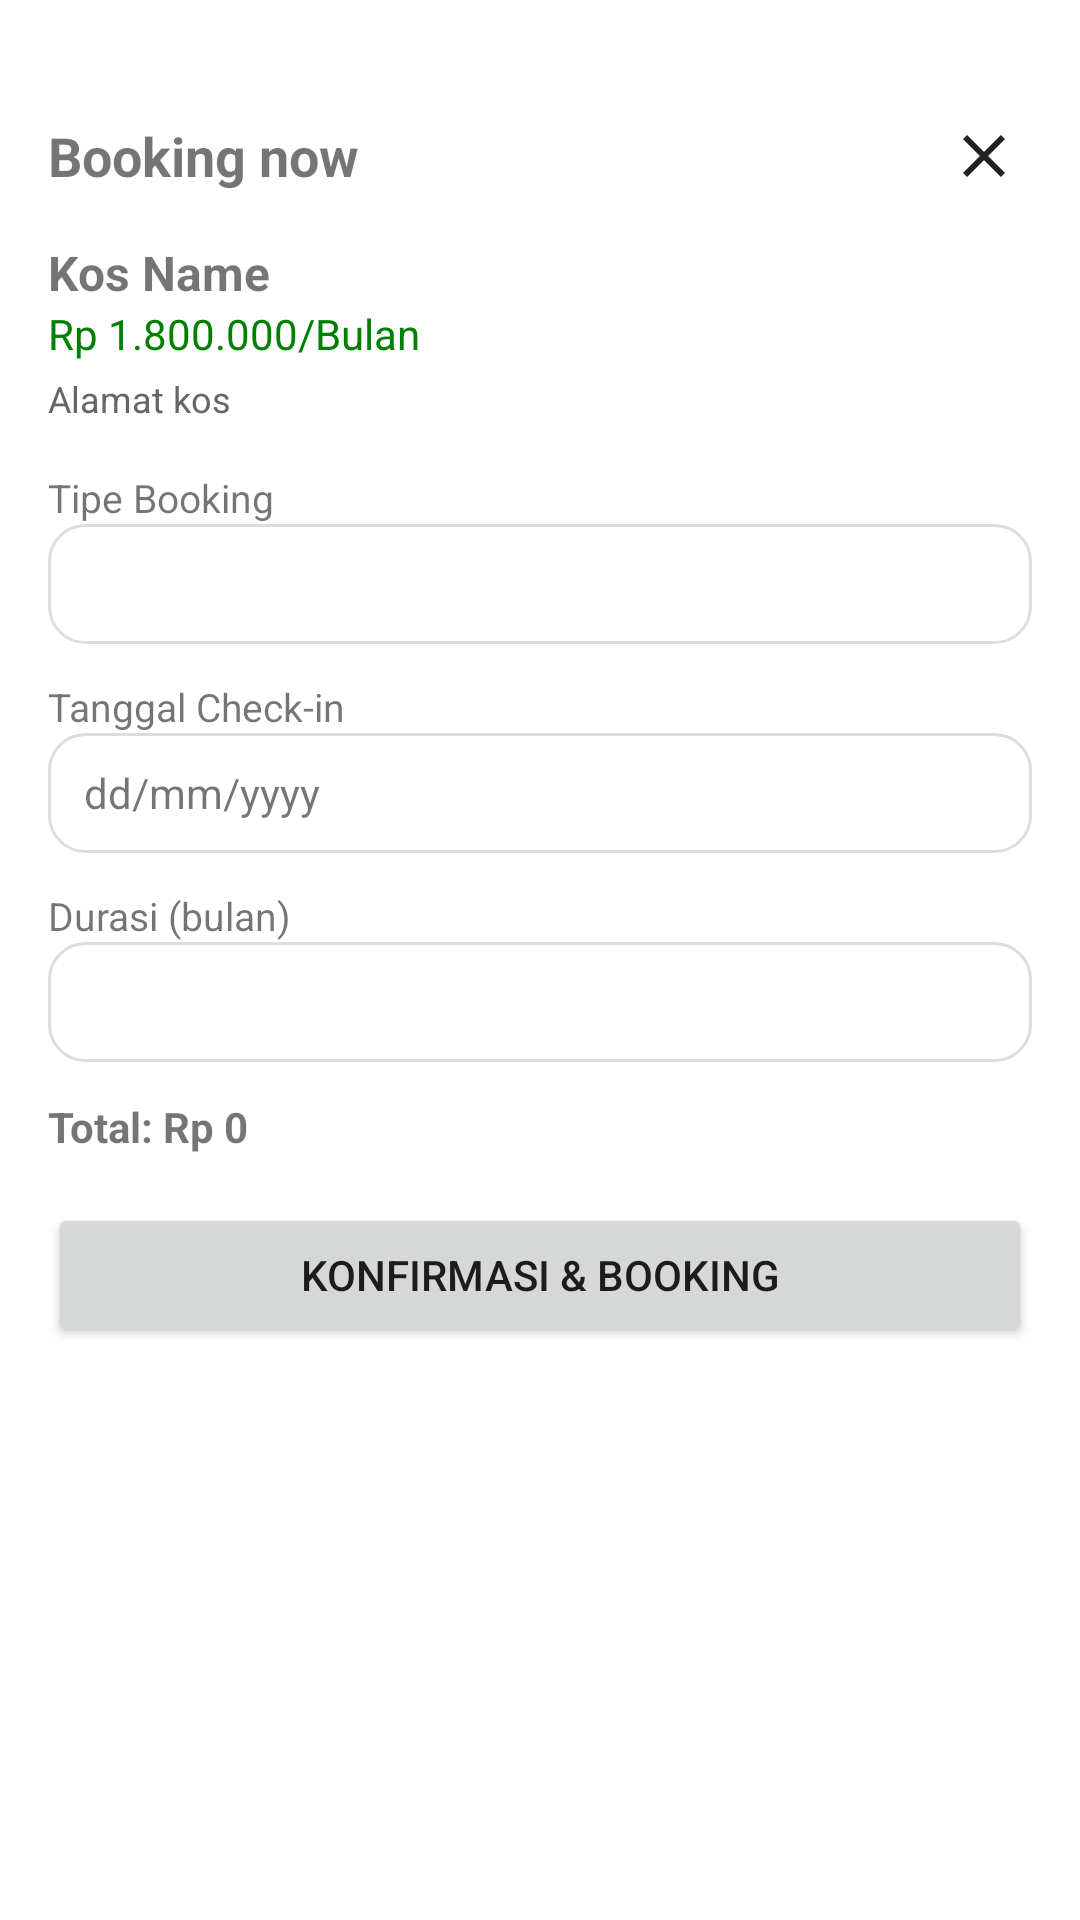

Screen size 1080x1920. Icon name, then its center in pixels as (x,y):
close: (984,156)
